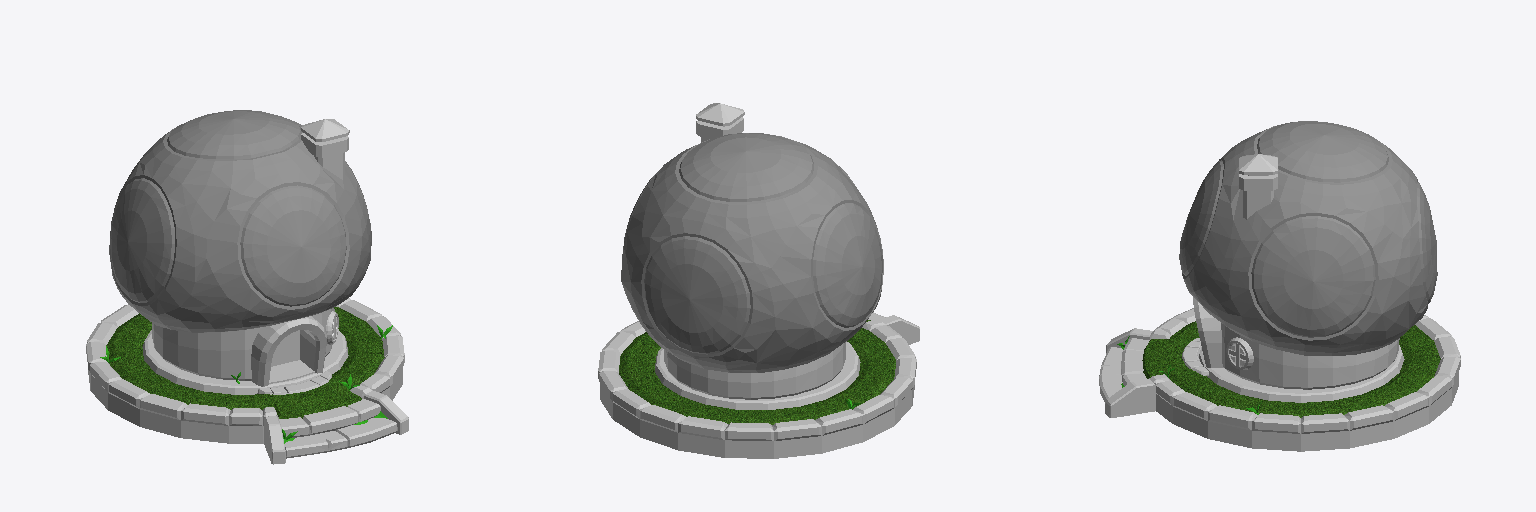
3 renders of one model, left to right at view 1: azimuth 30°, elevation 25°; view 2: azimuth 150°, elevation 25°; view 3: azimuth 270°, elevation 25°, orthographic.
Visible parts, largest first — view 1: ID94.001; view 2: ID94.001; view 3: ID94.001.
Part boxes in pixels (x1,y1,x2,y2): ID94.001: (86,110,408,464); ID94.001: (598,103,919,458); ID94.001: (1099,121,1460,451).
Bounding box in the file's own units: 2.7 × 2.44 × 3.06.
10 materials, 2 textured.